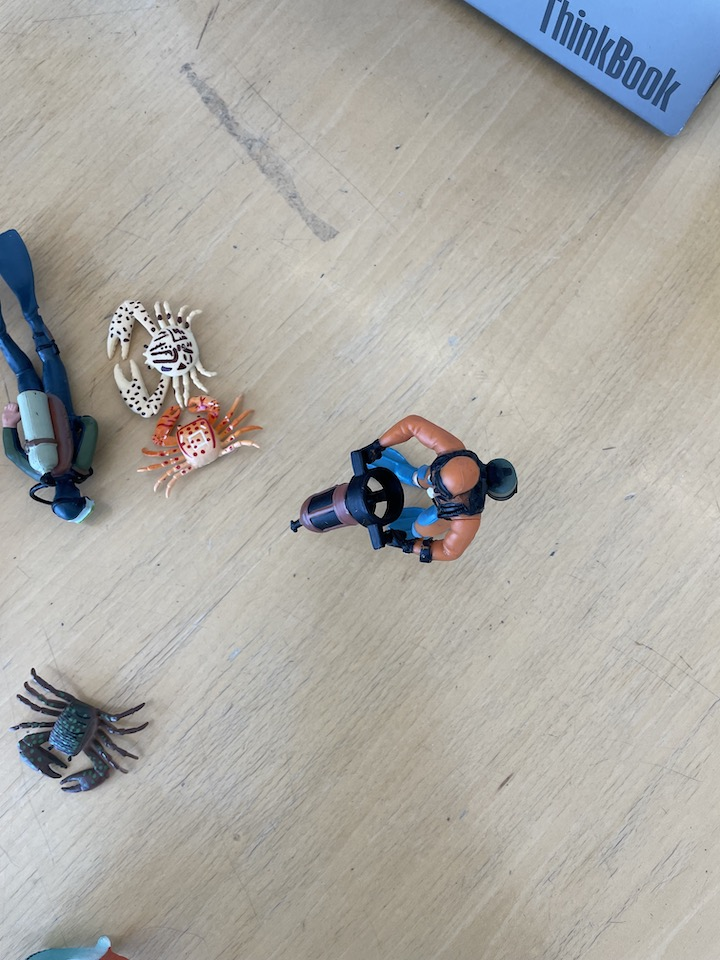crab: (11, 664, 150, 801), (103, 295, 221, 430), (131, 388, 266, 493)
diver: (284, 412, 518, 567), (1, 223, 102, 531)
fish: (18, 933, 136, 960)
